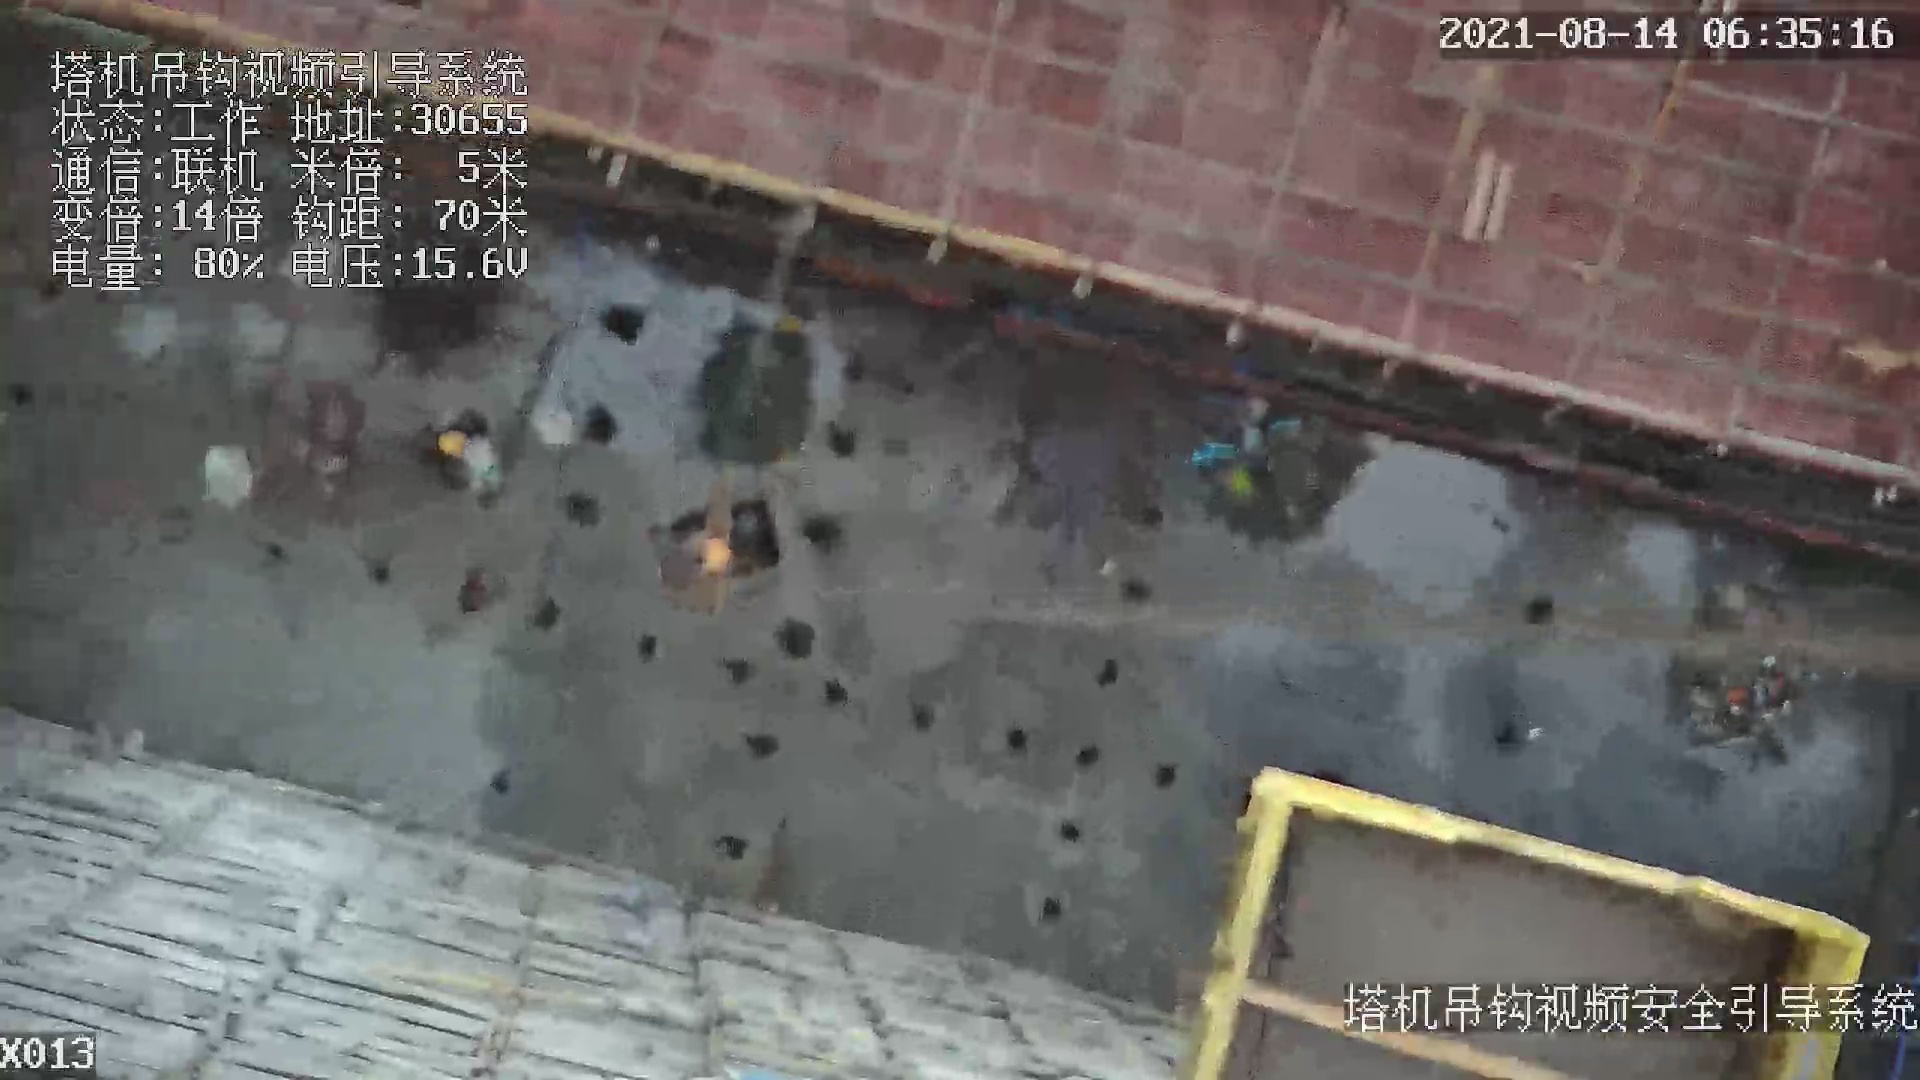hook: (696, 481, 731, 615)
